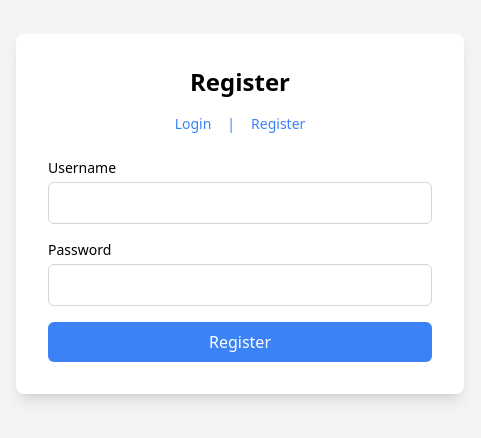
failed registration shows error message
// Username and password entry.
Type "existinguser" into the field labelled "Username" at point(240, 203), box [48,182,432,224]
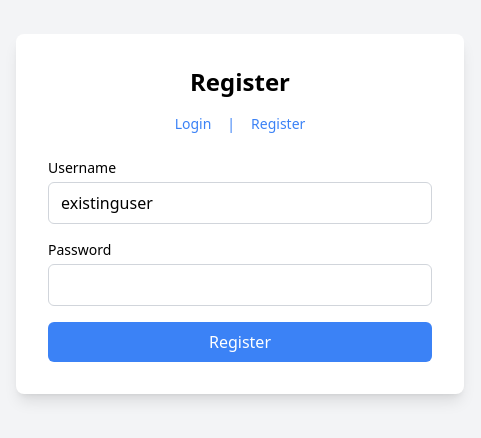
Type "password" into the password field labelled "Password" at point(240, 285), box [48,264,432,306]
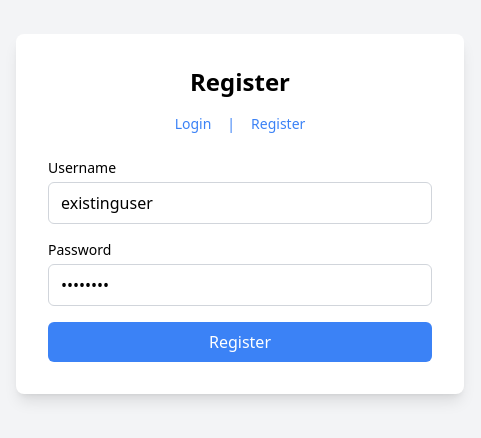
// Submit the form.
Click the button "Register" at point(240, 342), box [48,322,432,362]
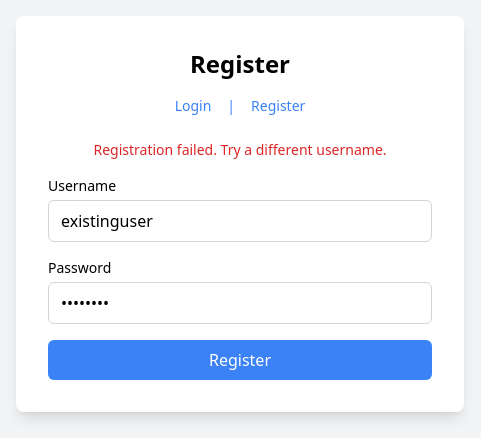
Now the text "Registration failed. Try a different username." is shown, box [94,140,387,159]
